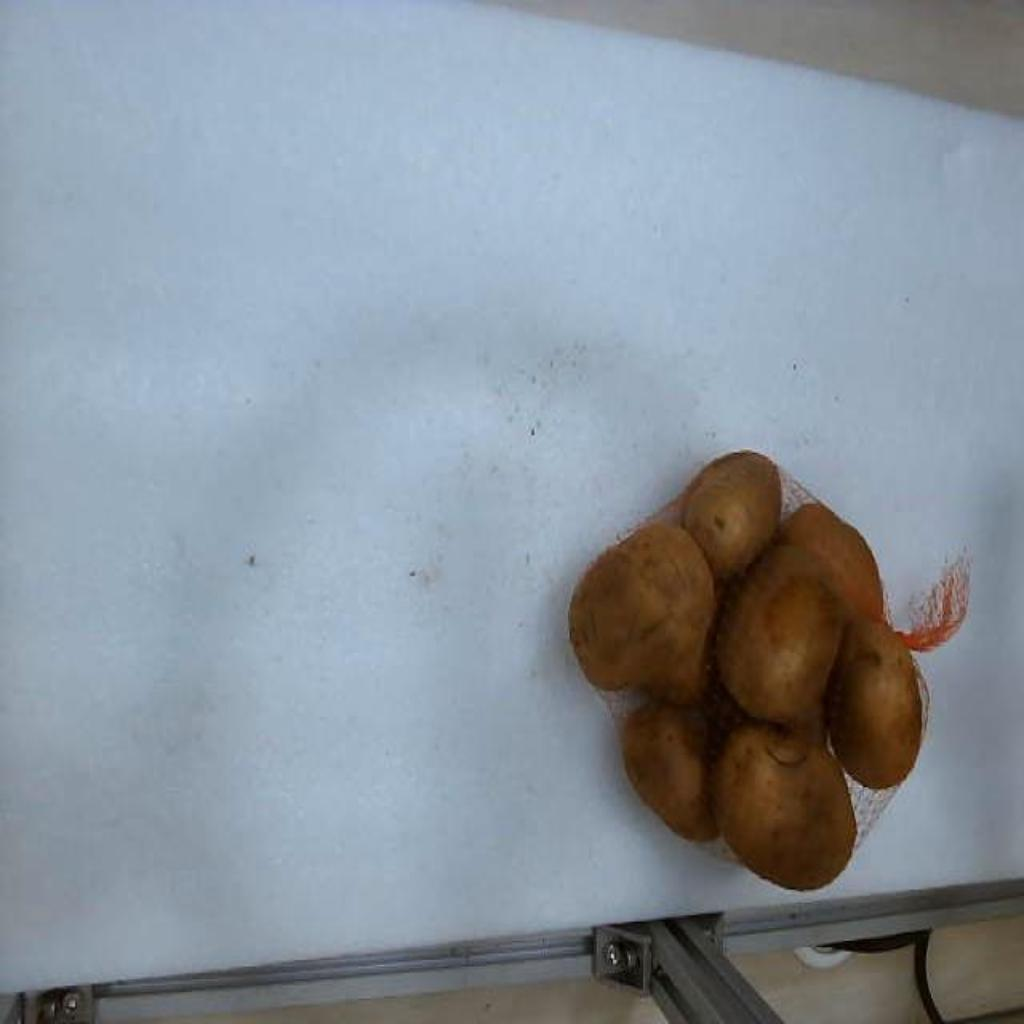potato: (568, 523, 718, 704), (712, 723, 856, 889), (716, 547, 844, 721), (826, 619, 918, 788), (622, 701, 718, 839), (682, 451, 780, 580), (779, 504, 882, 620)
